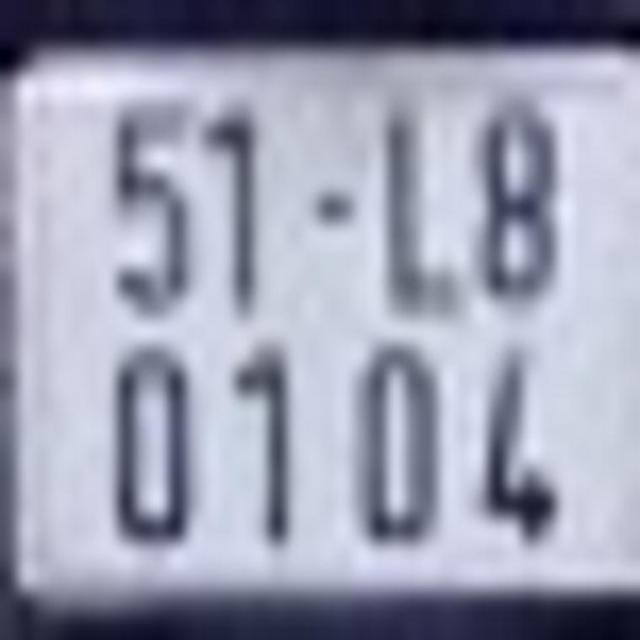0: (114, 336, 192, 549), (360, 336, 438, 543)
1: (232, 334, 292, 542), (204, 92, 256, 316)
4: (483, 352, 560, 538)
5: (108, 97, 192, 314)
8: (486, 92, 558, 303)
L: (386, 102, 468, 316)
